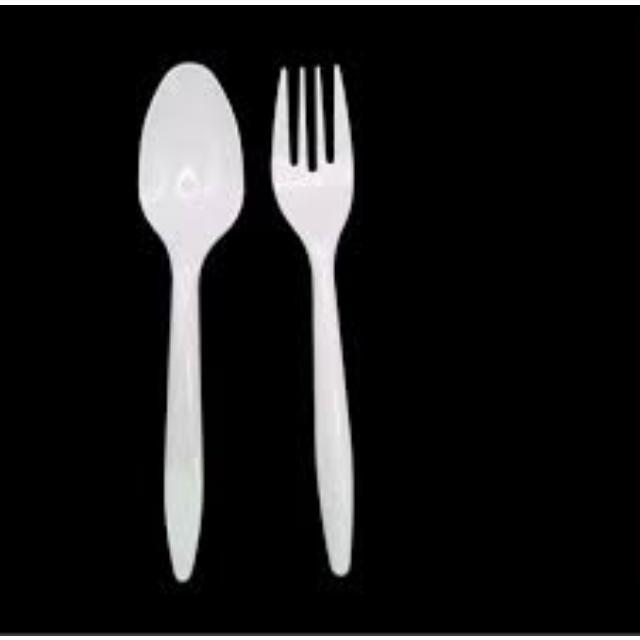Plastico descartable: (139, 62, 244, 581), (271, 65, 354, 576)
